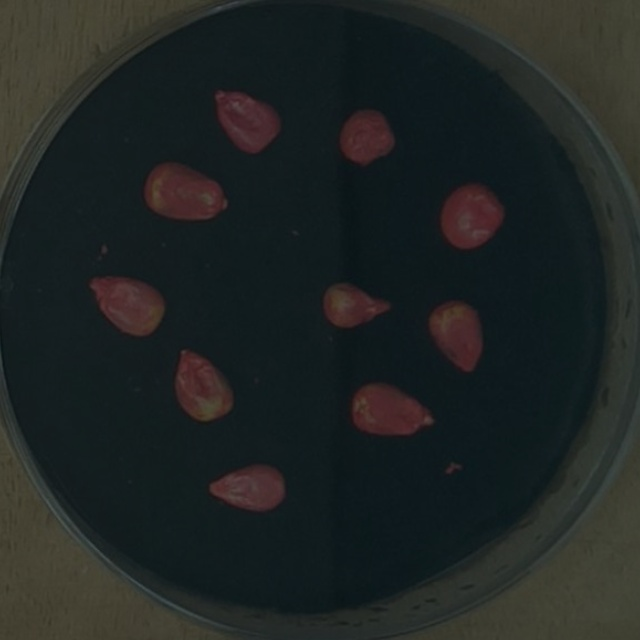Zea mays: (138, 154, 235, 229), (81, 268, 172, 346), (343, 373, 441, 444), (167, 338, 242, 430), (208, 80, 289, 163), (430, 175, 510, 258), (421, 292, 491, 381), (200, 454, 293, 520), (314, 271, 400, 338), (333, 98, 404, 172)
